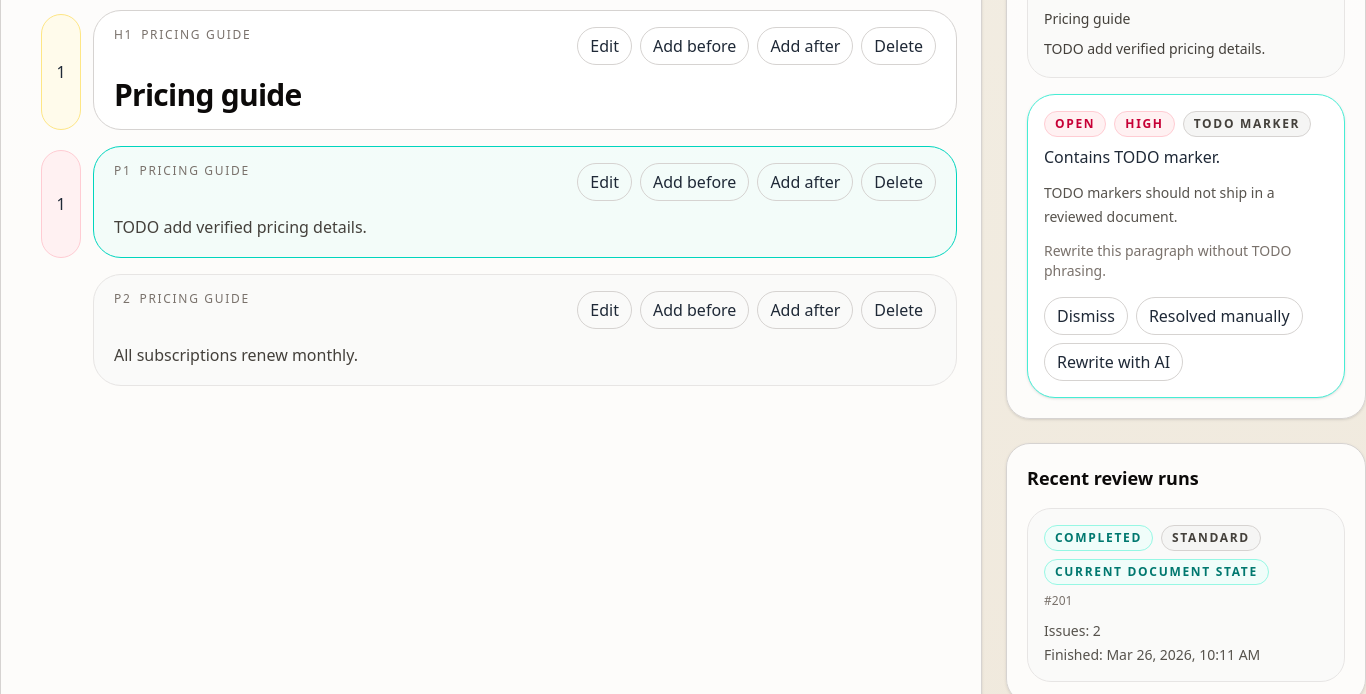
Test: AIReviewEditor frontend › saves inline block edits, refreshes the document, and creates a manual edit version
The width and height of the screenshot is (1366, 694).
(page scrolled)
Click the button "Edit" in the row of "p2" at (605, 310), box [577,291,632,329]
(page scrolled)
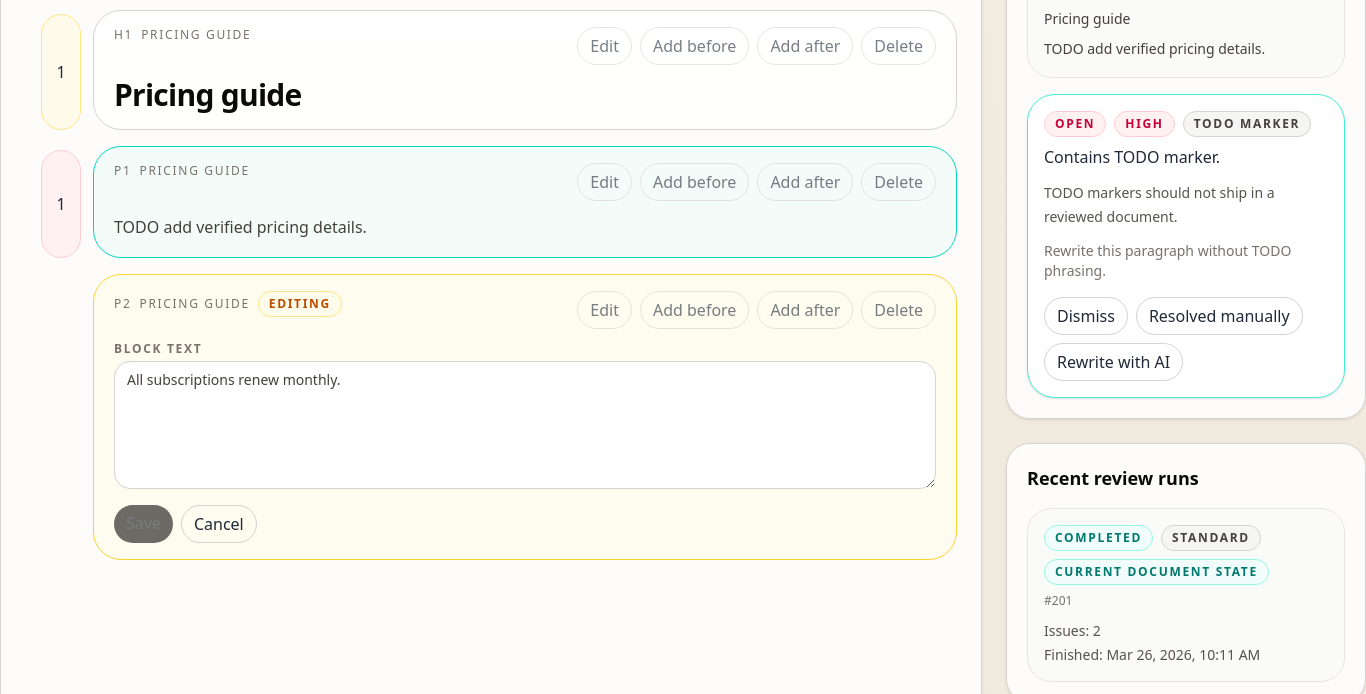
Replace the text in the text box with "All subscriptions renew yearly." at (525, 425), box [114,361,936,489]
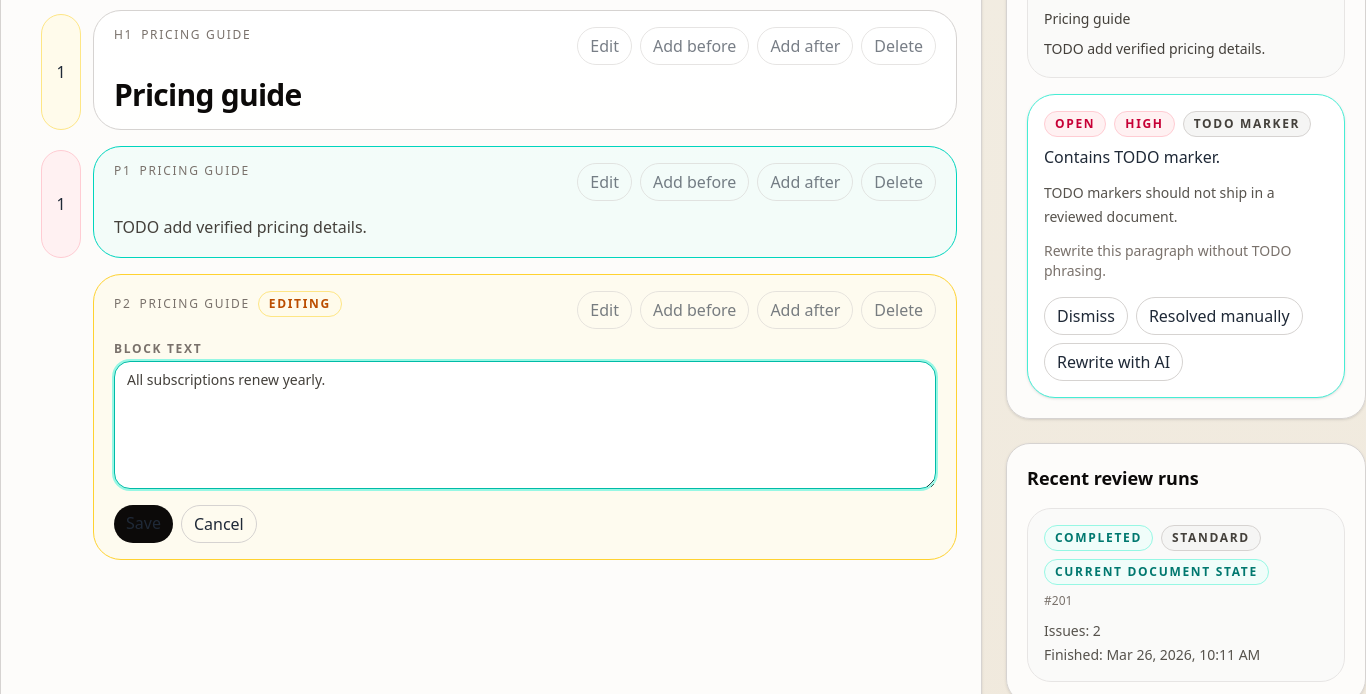
Click the button "Save" at (143, 524), box [114,505,173,543]
(page scrolled)
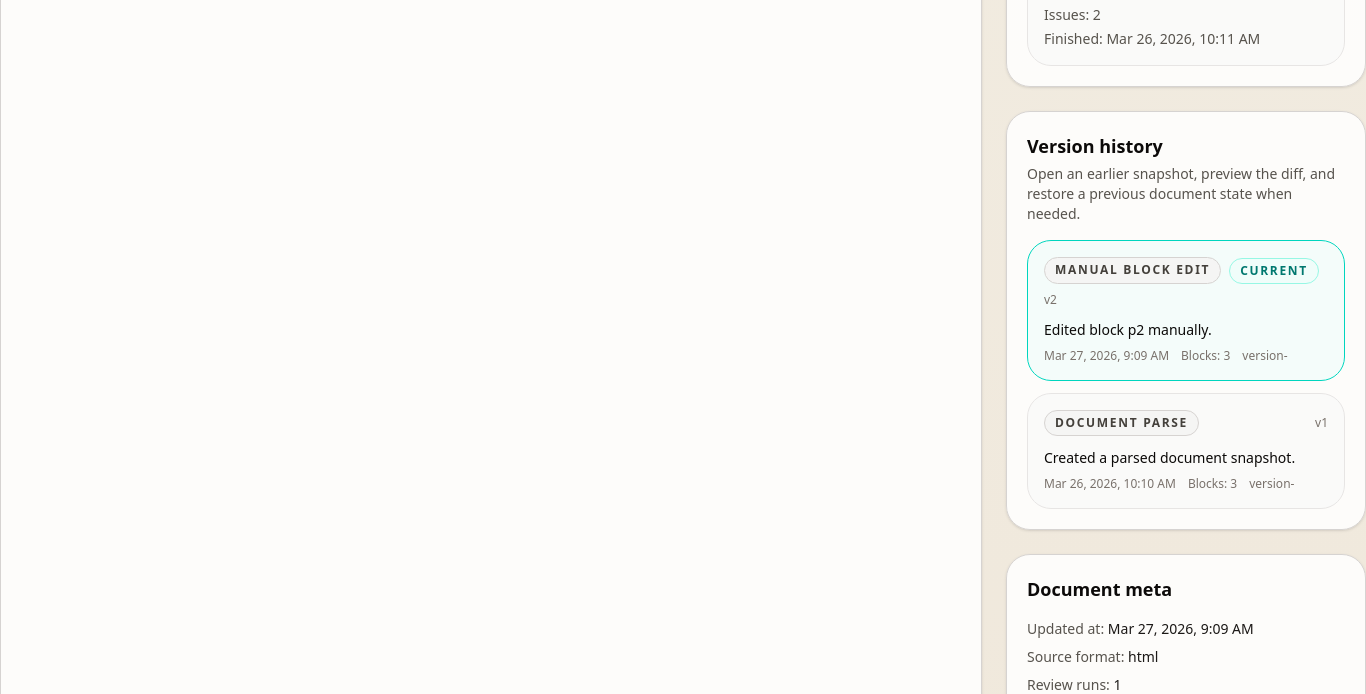
Check: the button with test id "ai-review-version-402" shows "Edited block p2 manually.", box [1027,240,1345,381]
